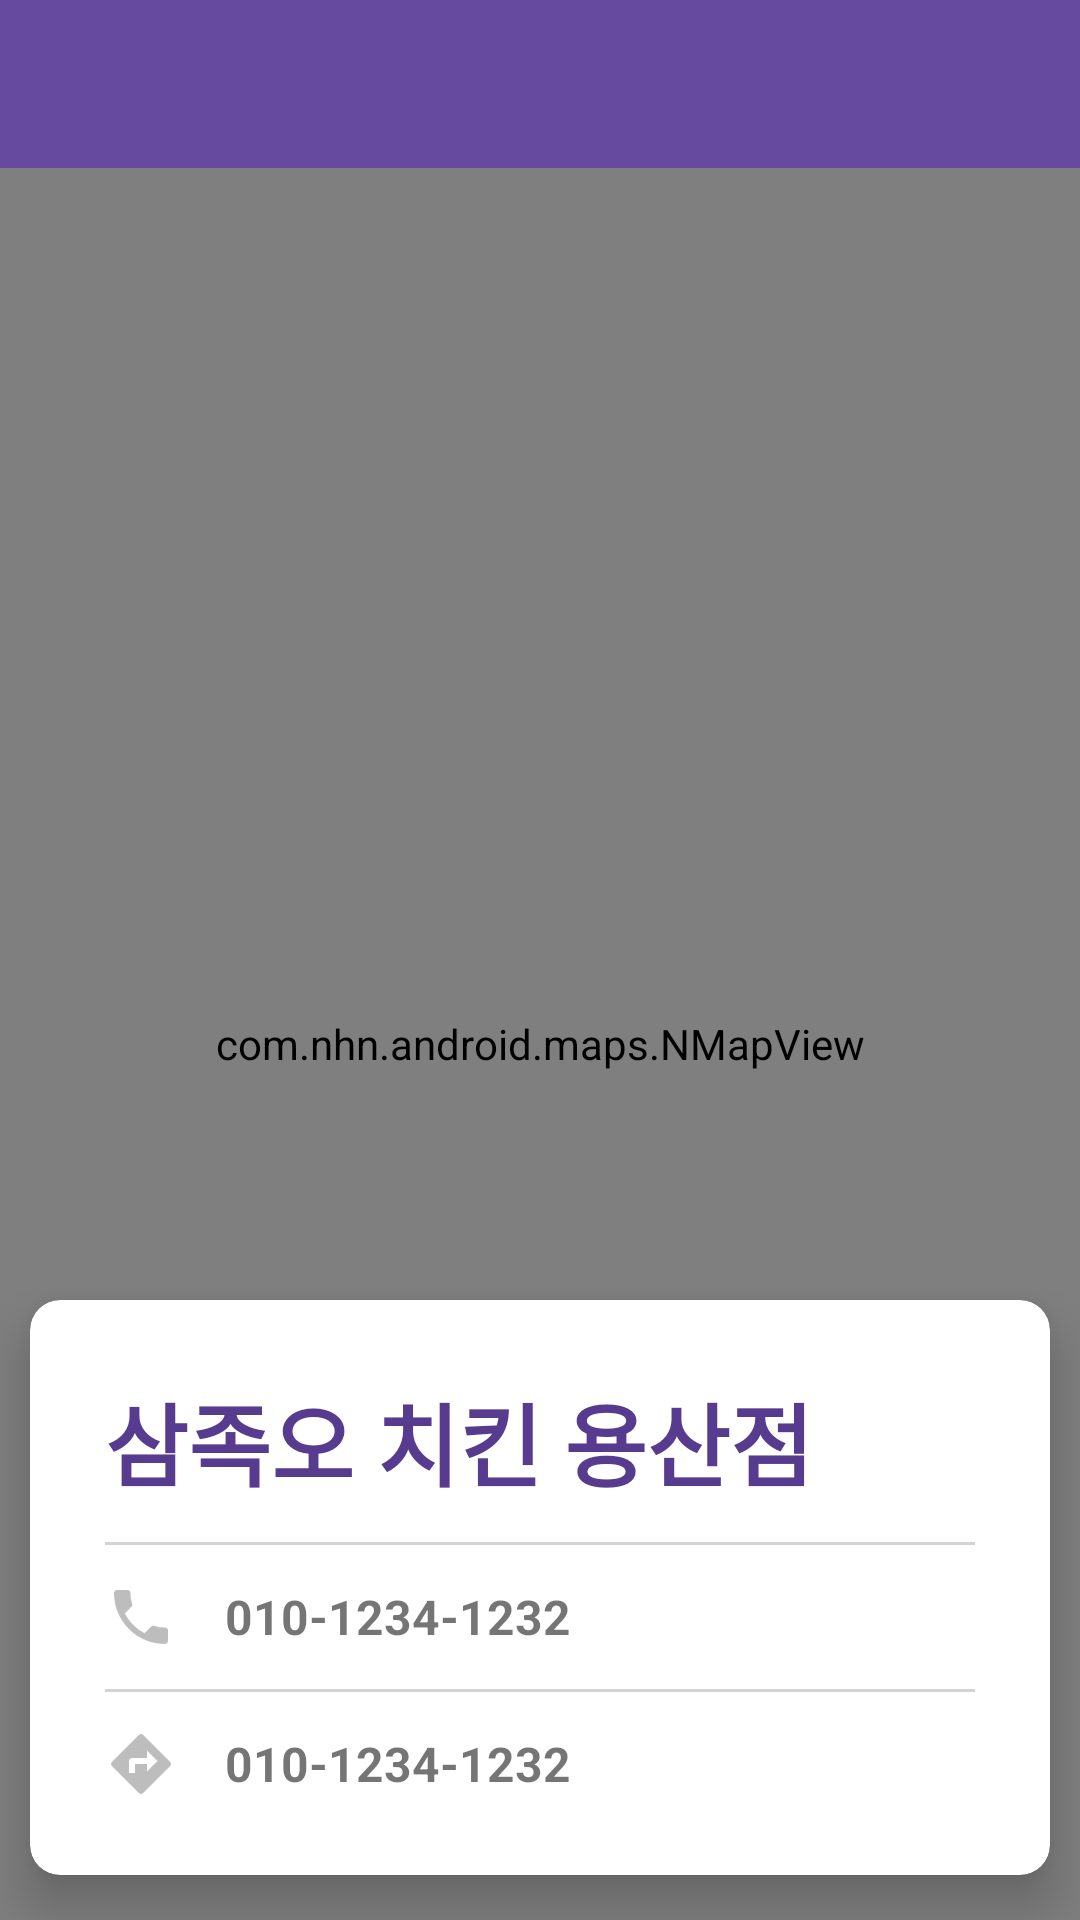

Named icons in this screenshot (1080x1920) and their centers, (x,y):
maps address: (141,1764)
maps call: (141,1617)
